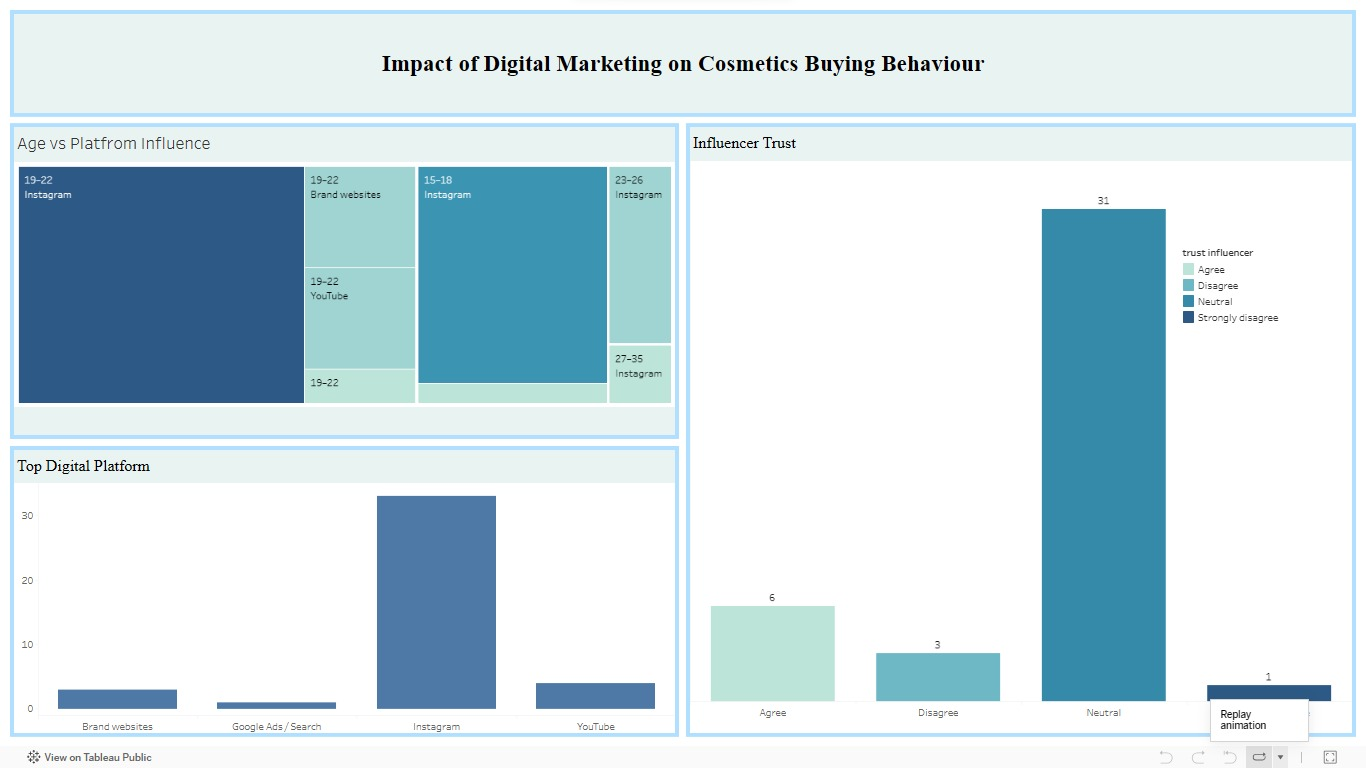

The page's visual inventory and layout, read from the dashboard file:
{"tool":"powerbi","page":{"name":"Page 1","canvas":[1280,720],"ordinal":0},"visuals":[{"type":"clusteredBarChart","fields":{"Category":["Form responses 1.Which digital platform influences you the MOST while buying cosmetics?  "],"Y":["Form responses 1.Total Responses"]},"box":[45.4,29.3,557.6,307.3],"z":0},{"type":"pieChart","fields":{"Category":["Form responses 1.What type of digital content impacts your buying decision the most?"],"Y":["Form responses 1.Total Responses"]},"box":[690.7,29.3,554.6,307.3],"z":1000},{"type":"columnChart","fields":{"Category":["Form responses 1.Do you trust influencer recommendations for cosmetics?  "],"Y":["Form responses 1.Total Responses"]},"box":[690.7,371.7,554.6,317.6],"z":2000},{"type":"treemap","fields":{"Group":["Form responses 1.Age Group "],"Details":["Form responses 1.Which digital platform influences you the MOST while buying cosmetics?  "],"Values":["Form responses 1.Total Responses"]},"box":[43.9,371.7,557.6,317.6],"z":3000}]}

Visuals, with their boxes on the page's 1280x720 design canvas (x1, y1, x2, y2). These are canvas units, not pixel positions in the 1366x768 screenshot, which may show the page scaled, cropped or inside an application window:
clusteredBarChart - Form responses 1.Which digital platform influences you the MOST while buying cosmetics?   x Form responses 1.Total Responses: bbox=[45, 29, 603, 337]
pieChart - Form responses 1.What type of digital content impacts your buying decision the most? x Form responses 1.Total Responses: bbox=[691, 29, 1245, 337]
columnChart - Form responses 1.Do you trust influencer recommendations for cosmetics?   x Form responses 1.Total Responses: bbox=[691, 372, 1245, 689]
treemap - Form responses 1.Age Group  x Form responses 1.Which digital platform influences you the MOST while buying cosmetics?  : bbox=[44, 372, 602, 689]
